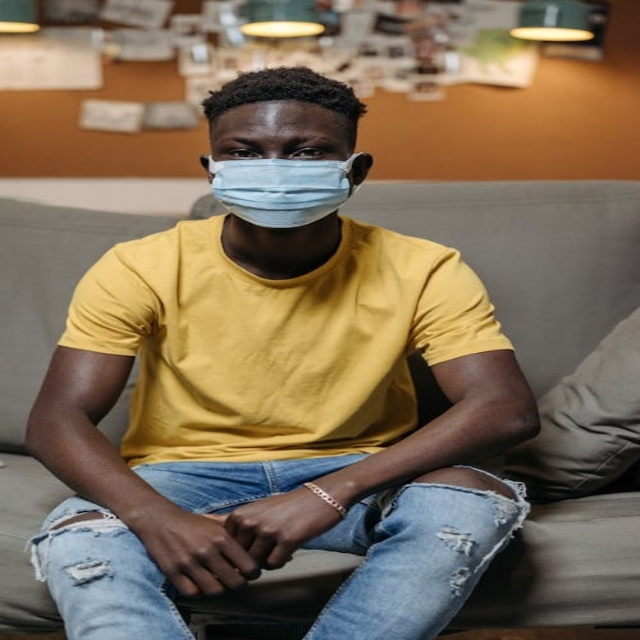Mascara: (207, 152, 362, 227)
Sin_gafas: (211, 126, 342, 159)
Sin_guantes: (127, 506, 264, 599), (216, 478, 348, 572)
